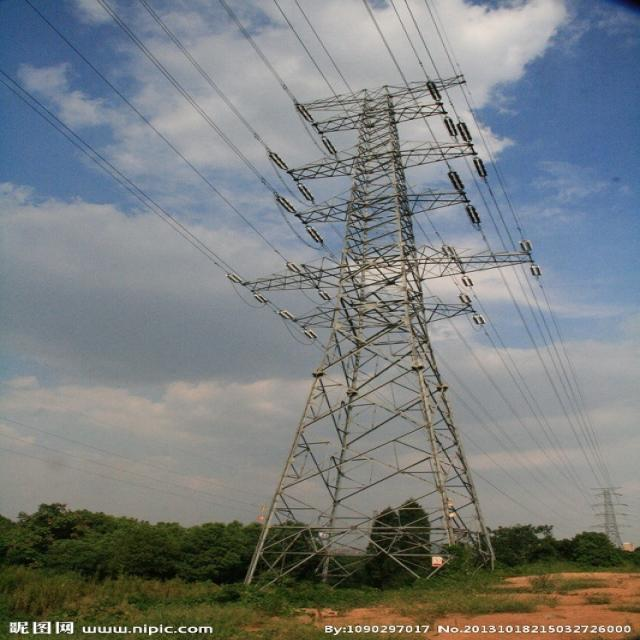non-critical vegetation: (228, 76, 520, 588)
